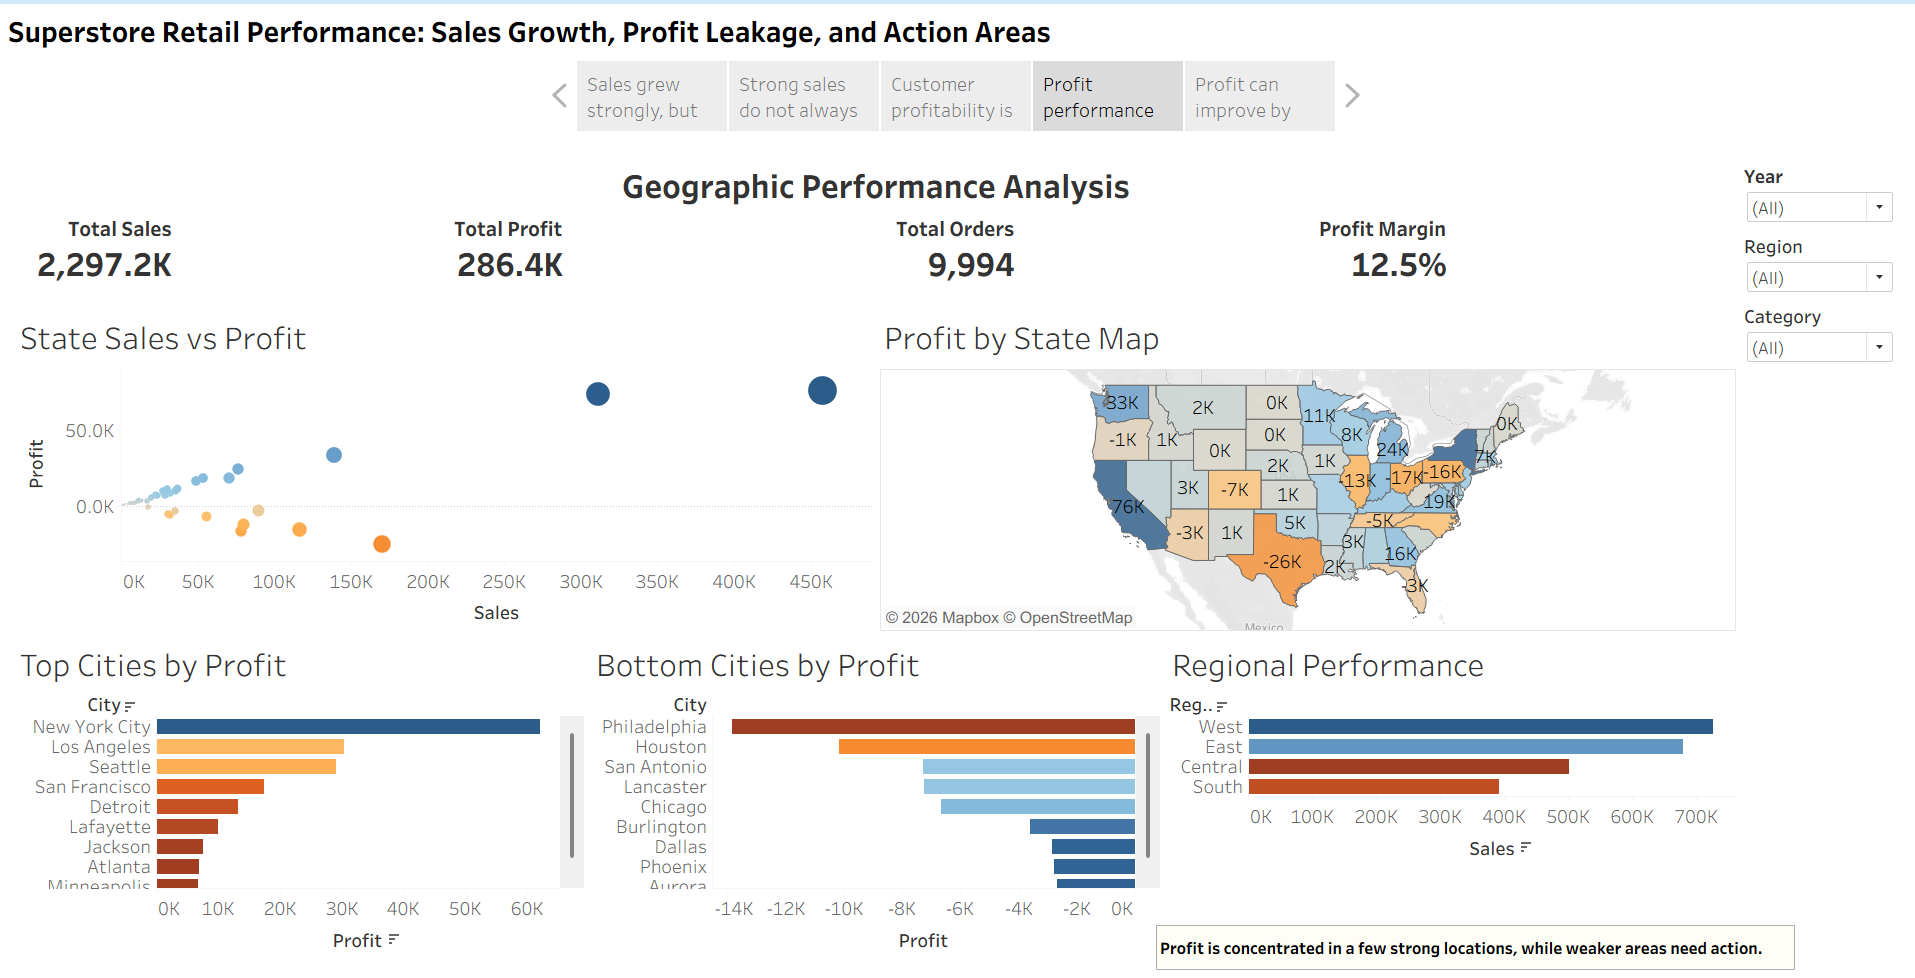

The page's visual inventory and layout, read from the dashboard file:
{"tool":"tableau","page":{"name":"Geographic Performance Analysis","canvas":[1000,1000],"units":"permille","ordinal":3},"visuals":[{"type":"title","box":[5,10.3,890.3,66.9]},{"type":"filter","title":"State Sales vs Profit","param":"[federated.1k9e1lu12u8j3r19thx170q1152m].[yr:full_date:ok]","box":[895.3,10.3,99.8,90.1]},{"type":"worksheet","title":"Total Sales","mark":"Automatic","box":[5,77.2,222.3,114.5]},{"type":"worksheet","title":"Total_Profit","mark":"Automatic","box":[227.3,77.2,222.5,114.5]},{"type":"worksheet","title":"Total Orders","mark":"Automatic","box":[449.8,77.2,222.7,114.5]},{"type":"worksheet","title":"Profit Margin %","mark":"Automatic","box":[672.5,77.2,222.8,114.5]},{"type":"filter","title":"State Sales vs Profit","param":"[federated.1k9e1lu12u8j3r19thx170q1152m].[none:region:nk]","box":[895.3,100.4,99.8,90.1]},{"type":"filter","title":"State Sales vs Profit","param":"[federated.1k9e1lu12u8j3r19thx170q1152m].[none:category:nk]","box":[895.3,190.5,99.8,90.1]},{"type":"worksheet","title":"State Sales vs Profit","mark":"Circle","rows":["profit"],"cols":["sales"],"box":[5,191.8,445.1,399]},{"type":"worksheet","title":"Profit by State Map","mark":"Multipolygon","box":[450.1,191.8,445.1,399]},{"type":"worksheet","title":"Top Cities by Profit","mark":"Bar","rows":["city"],"cols":["profit"],"box":[5,590.7,296.8,399]},{"type":"worksheet","title":"Bottom Cities by Profit","mark":"Bar","rows":["city"],"cols":["profit"],"box":[301.8,590.7,296.8,399]},{"type":"worksheet","title":"Regional Performance","mark":"Bar","rows":["region"],"cols":["sales"],"box":[598.5,590.7,296.8,399]}]}

Visuals, with their boxes on the dashboard's canvas, which has no fixed pixel size, in thousandths of its width and height (x1, y1, x2, y2). These are canvas units, not pixel positions in the 1915x978 screenshot, which may show the page scaled, cropped or inside an application window:
title: detection(5, 10, 895, 77)
"State Sales vs Profit" filter: detection(895, 10, 995, 100)
"Total Sales" worksheet: detection(5, 77, 227, 192)
"Total_Profit" worksheet: detection(227, 77, 450, 192)
"Total Orders" worksheet: detection(450, 77, 672, 192)
"Profit Margin %" worksheet: detection(672, 77, 895, 192)
"State Sales vs Profit" filter: detection(895, 100, 995, 190)
"State Sales vs Profit" filter: detection(895, 190, 995, 281)
"State Sales vs Profit" worksheet (Circle marks): detection(5, 192, 450, 591)
"Profit by State Map" worksheet (Multipolygon marks): detection(450, 192, 895, 591)
"Top Cities by Profit" worksheet (Bar marks): detection(5, 591, 302, 990)
"Bottom Cities by Profit" worksheet (Bar marks): detection(302, 591, 599, 990)
"Regional Performance" worksheet (Bar marks): detection(598, 591, 895, 990)
